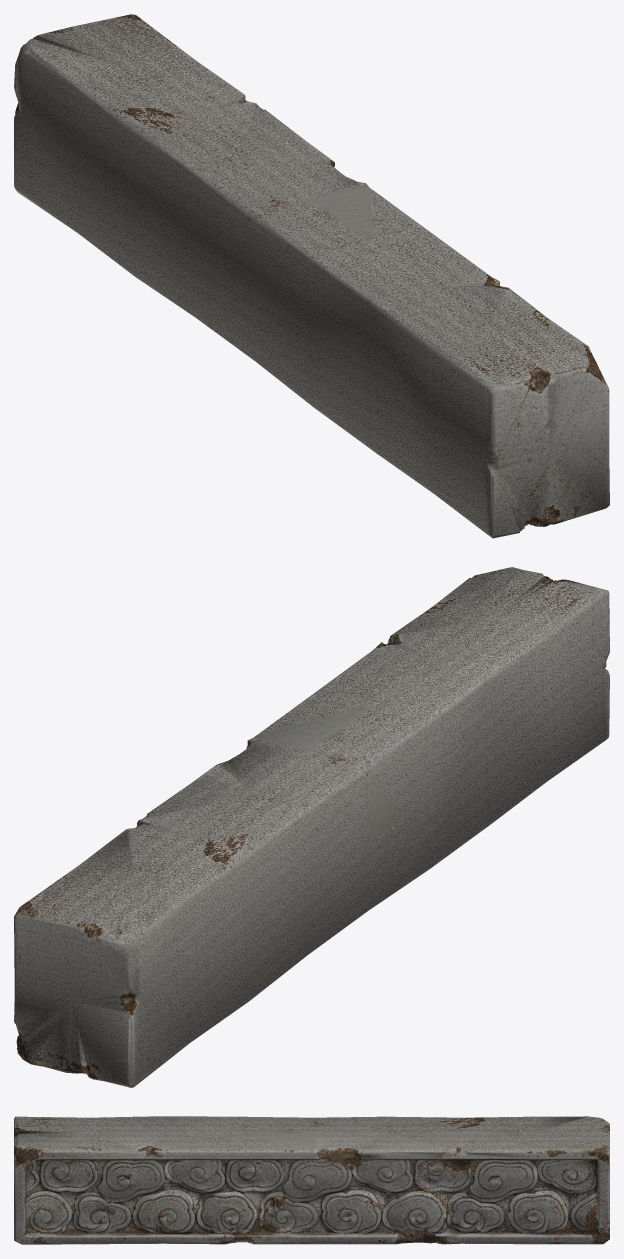
The model's file is tripo_convert_1cf6e063-7d6c-43d3-aab6-043ec2c475b8.fbx.
3 renders of one model, top to bottom at view 1: azimuth 30°, elevation 25°; view 2: azimuth 150°, elevation 25°; view 3: azimuth 270°, elevation 25°, orthographic. The views are drawn at different scales.
Parts seen in each view (by area): view 1: tripo_node_1cf6e063; view 2: tripo_node_1cf6e063; view 3: tripo_node_1cf6e063.
Part boxes in pixels (left/top/right/bottom): tripo_node_1cf6e063: left=14, top=14, right=609, bottom=538; tripo_node_1cf6e063: left=14, top=567, right=609, bottom=1087; tripo_node_1cf6e063: left=14, top=1116, right=609, bottom=1244.
Size of the model in its own units: 0.1426 by 0.1738 by 0.998.
1 material, 1 textured.
